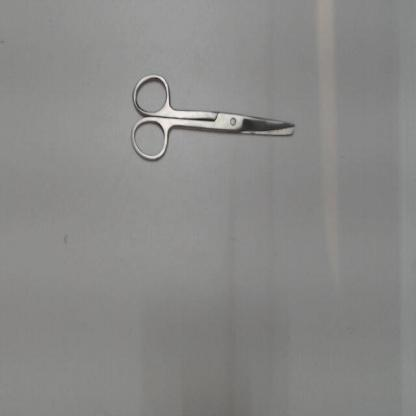Dressing Scissors: (124, 70, 306, 172)
